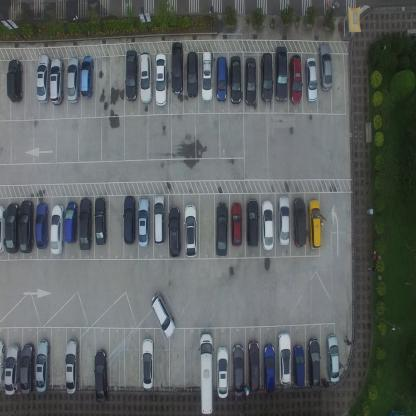car: (150, 290, 177, 339), (200, 330, 214, 415), (4, 343, 21, 395), (93, 349, 109, 403), (18, 199, 34, 253), (277, 330, 292, 386), (307, 197, 323, 249), (65, 336, 79, 395), (35, 338, 50, 392), (274, 45, 288, 102), (4, 201, 19, 254), (78, 196, 92, 252), (170, 40, 184, 96), (6, 58, 23, 104), (261, 200, 276, 252), (20, 343, 35, 395), (168, 205, 182, 260), (184, 203, 198, 258), (307, 336, 321, 390), (140, 337, 154, 390), (200, 50, 214, 103), (49, 57, 64, 106), (136, 196, 150, 248), (293, 196, 307, 248), (289, 53, 303, 105), (36, 52, 50, 104), (216, 202, 229, 257), (247, 339, 260, 394), (154, 52, 167, 107), (260, 51, 274, 102), (139, 51, 152, 105), (125, 48, 138, 102), (152, 194, 166, 244), (246, 198, 260, 248), (326, 332, 340, 382), (216, 345, 229, 398), (50, 203, 63, 256), (93, 196, 107, 245), (318, 42, 332, 91), (66, 55, 80, 104), (122, 193, 135, 245), (278, 194, 291, 246), (263, 342, 276, 394), (232, 342, 244, 398), (35, 201, 48, 250), (186, 50, 199, 99), (80, 54, 94, 99), (64, 200, 78, 244), (244, 56, 256, 107), (230, 55, 242, 106), (304, 56, 317, 101), (292, 343, 304, 387), (216, 55, 227, 103), (232, 202, 243, 246), (0, 204, 5, 254), (0, 337, 5, 386)
